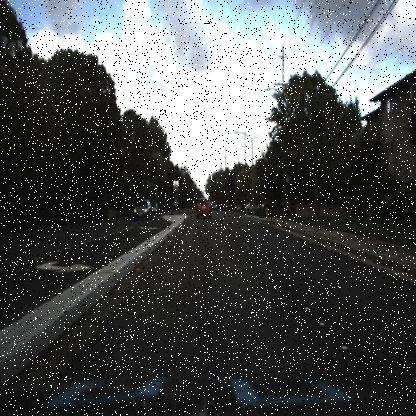car: (130, 196, 154, 219), (194, 192, 212, 220), (132, 198, 152, 219), (151, 198, 159, 216)
